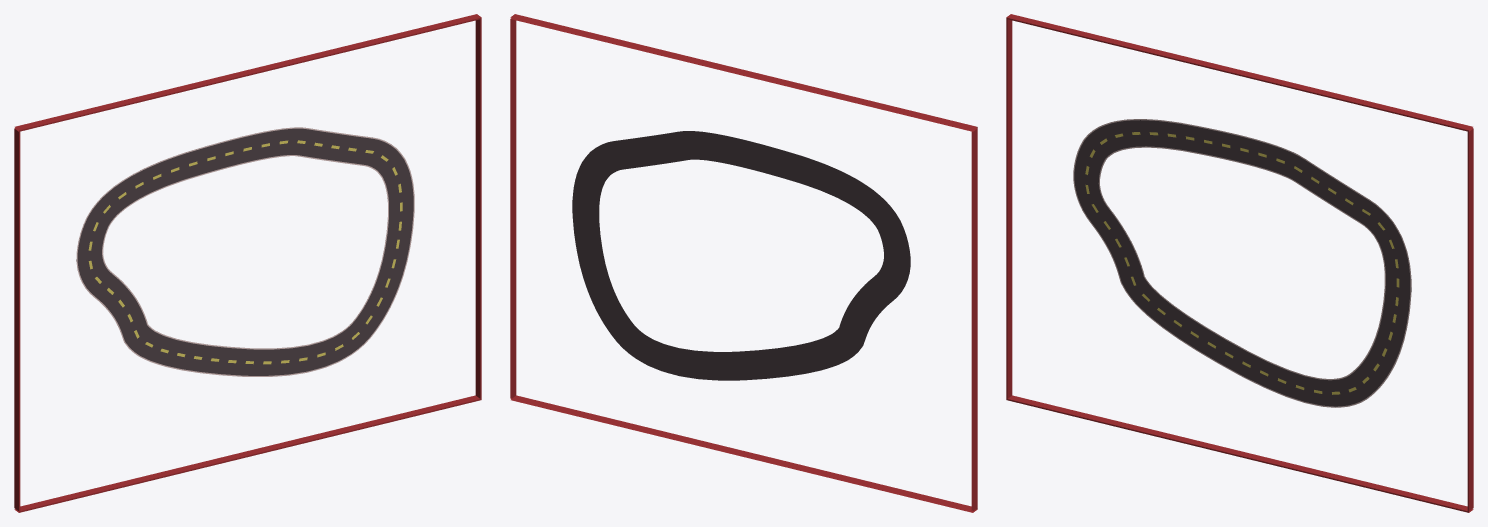
The model's file is track.obj.
3 renders of one model, left to right at view 1: azimuth 30°, elevation 25°; view 2: azimuth 150°, elevation 25°; view 3: azimuth 330°, elevation 25°, orthographic.
Bounding box in the file's own units: 16.59 × 13.1 × 0.3.
Materials: 4 (4 with a texture image).
